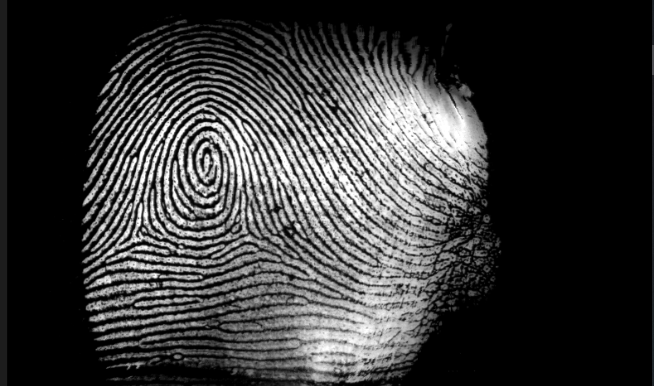deltas: (112, 203, 164, 262), (219, 207, 277, 252)
nucleo: (177, 129, 226, 187)
